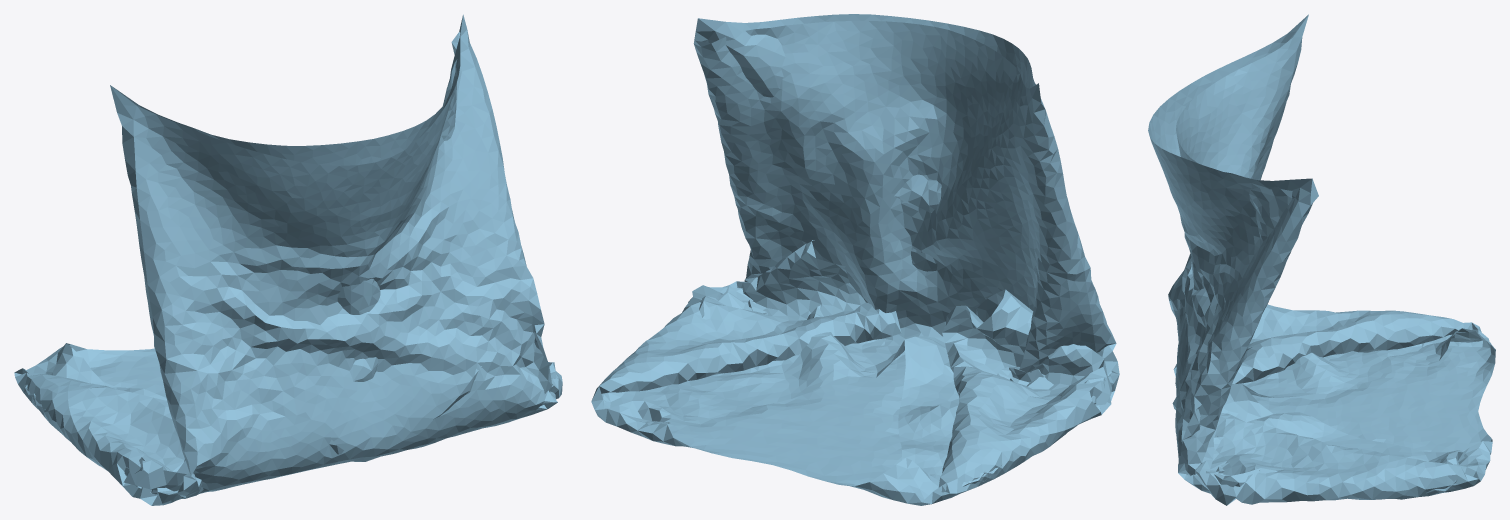
Rendered from frame_13.glb.
3 views of the same model, side by side, from view 1: azimuth 30°, elevation 25°; view 2: azimuth 150°, elevation 25°; view 3: azimuth 270°, elevation 25° (orthographic). The views are drawn at different scales.
Visible parts, largest first — view 1: frame_13.obj; view 2: frame_13.obj; view 3: frame_13.obj.
Boxes of the visible parts, x1=… form: frame_13.obj: x1=14, y1=14, x2=562, y2=505; frame_13.obj: x1=591, y1=14, x2=1119, y2=505; frame_13.obj: x1=1148, y1=14, x2=1495, y2=505.
Bounding box in the file's own units: 1.21 × 1 × 0.9643.
